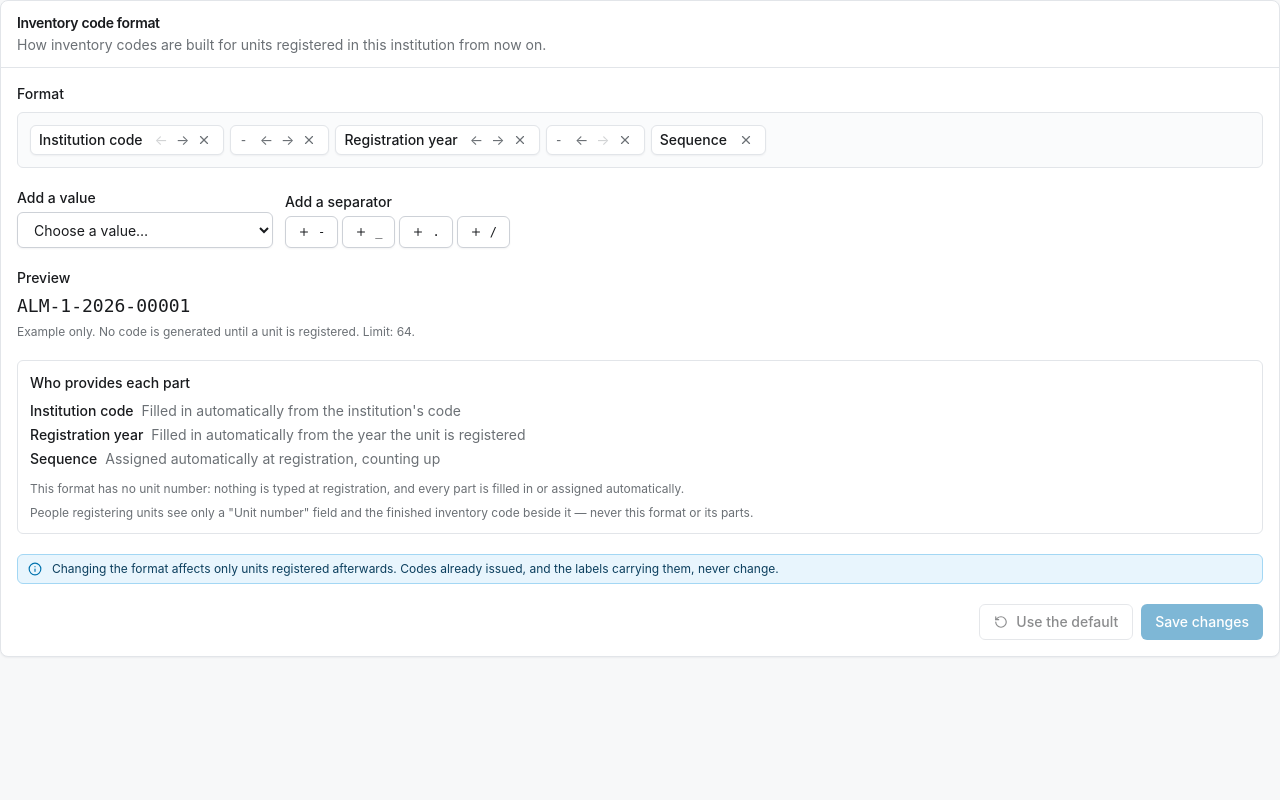
Test case: editing › adds a token before the sequence, which stays last
Select "Classification code" in the dropdown labelled "Add a value". click: (145, 230)
box: [17,212,273,248]
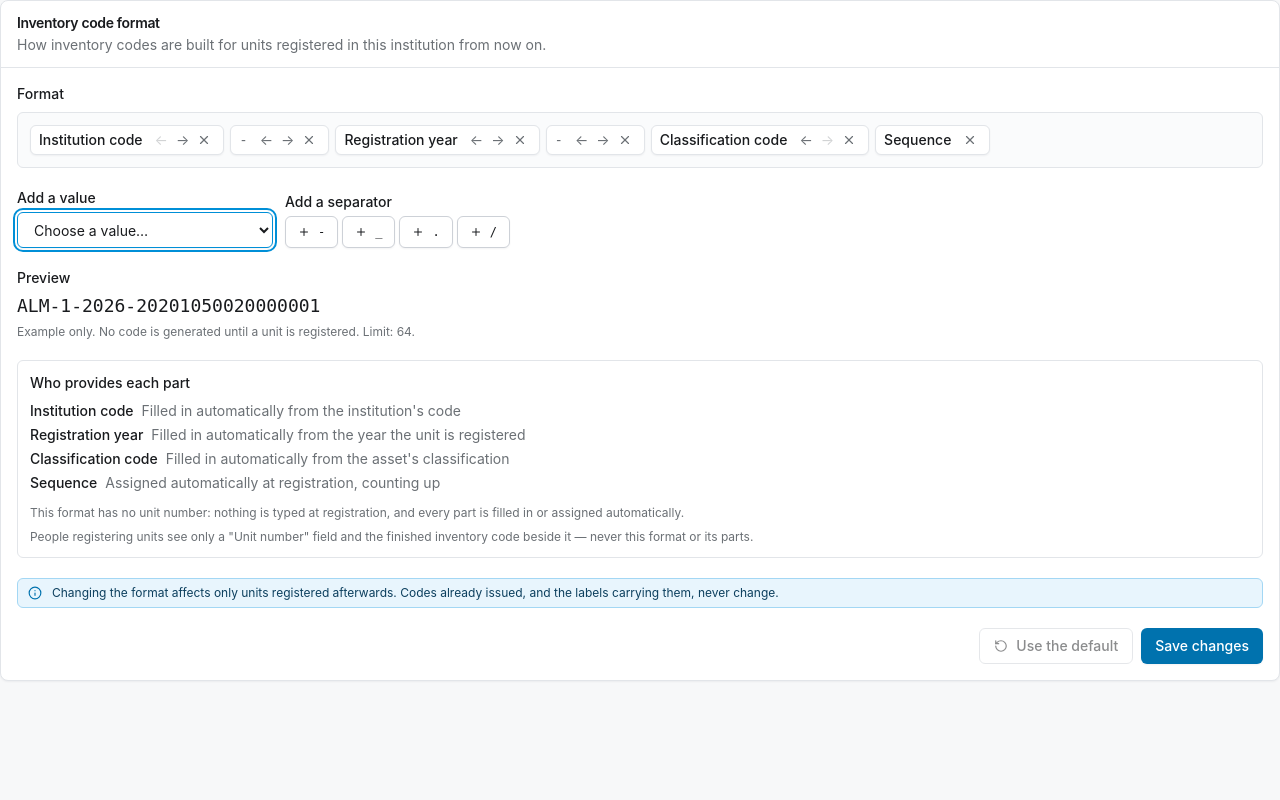
Now the text with test id "inventory-code-preview" reads "ALM-1-2026-20201050020000001", box [17,295,320,316]
